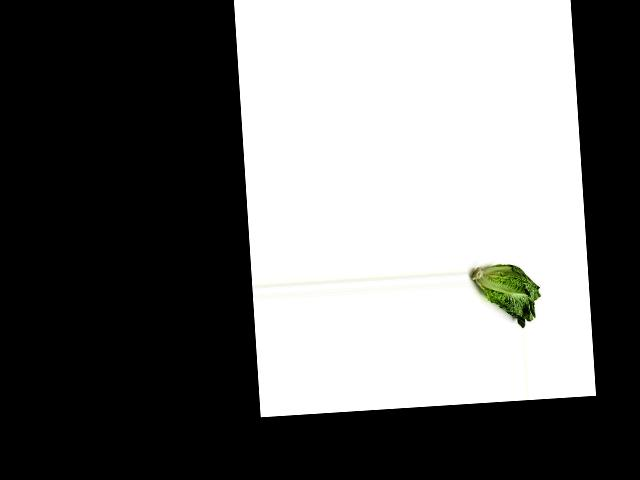lettuce: (472, 259, 545, 330)
